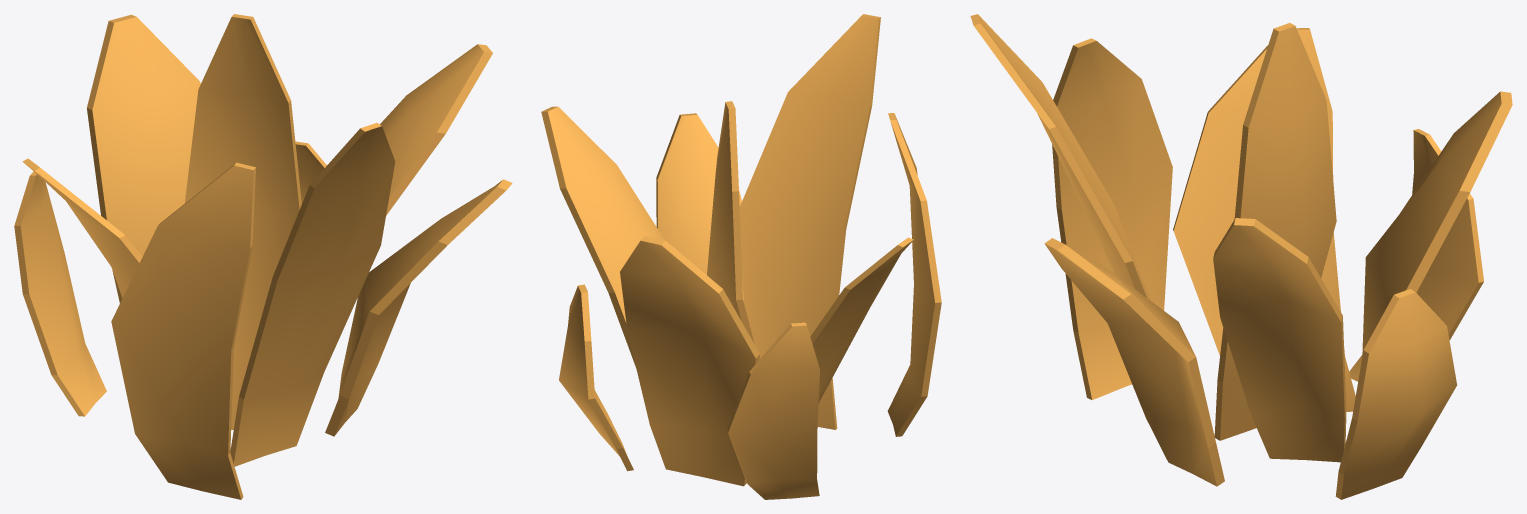
File: a_z2_grass_s.fbx
The picture shows the model from 3 angles, left to right: view 1: azimuth 30°, elevation 25°; view 2: azimuth 150°, elevation 25°; view 3: azimuth 270°, elevation 25°; orthographic projection. The views are drawn at different scales.
Parts seen in each view (by area): view 1: a_z2_grass_s; view 2: a_z2_grass_s; view 3: a_z2_grass_s.
Boxes of the visible parts, bbox=[...] form: a_z2_grass_s: bbox=[14, 14, 512, 499]; a_z2_grass_s: bbox=[541, 14, 941, 499]; a_z2_grass_s: bbox=[970, 14, 1512, 499].
Size of the model in its own units: 39.24 by 33.71 by 39.36.
